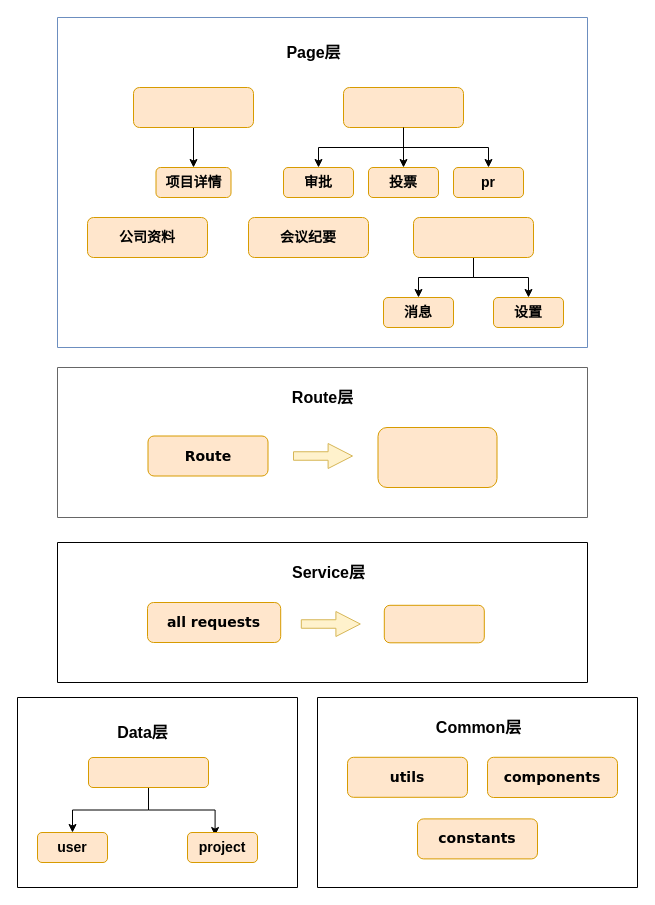
This 655x905 diagram has some shape labels left out. The centre of each missing label's shape, as x and y in pixels:
"axios" goes at point (433, 623).
"Page Component" goes at point (437, 457).
"Vuex Store" goes at point (148, 772).
"工作台" goes at point (403, 107).
"我的" goes at point (473, 237).
"项目池" goes at point (193, 107).
